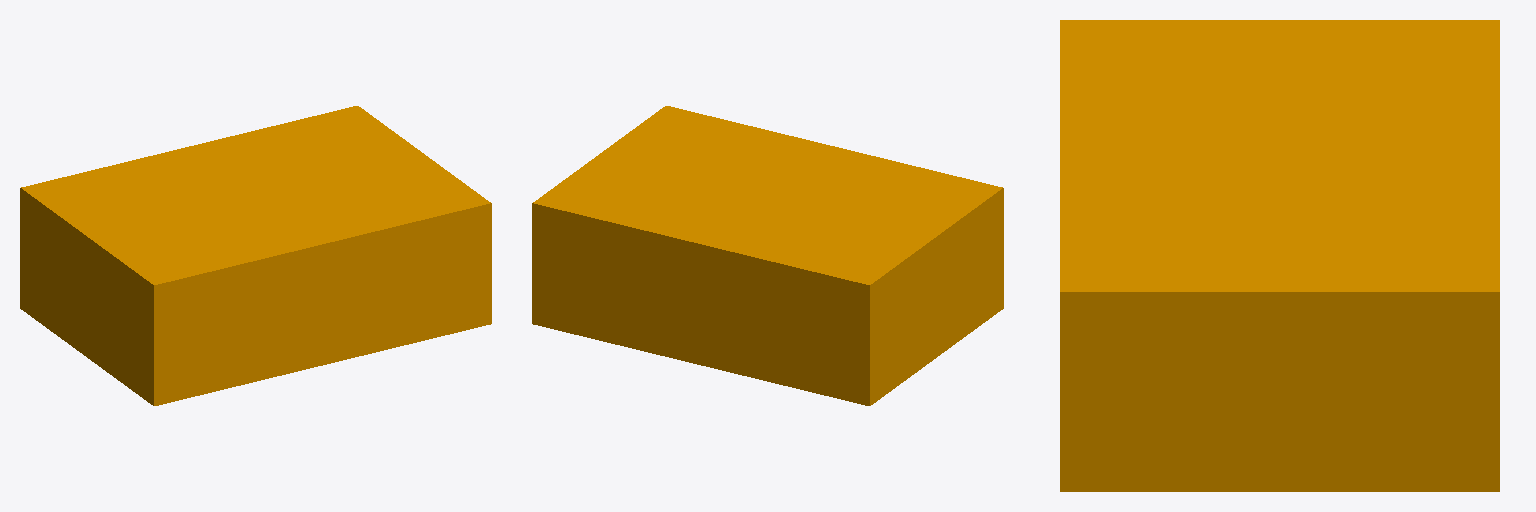
robot.urdf — 2x2:
<?xml version='1.0' encoding='UTF-8'?>
<robot name="2x2">
  <link name="base_link">
    <inertial>
      <origin xyz="0.0 0.0 0.0" rpy="0.0 0.0 0.0"/>
      <mass value="0.01"/>
      <inertia ixx="0.1" ixy="0.0" ixz="0.0" iyy="0.1" iyz="0.0" izz="0.1"/>
    </inertial>
    <visual>
      <geometry>
        <box size="0.035 0.024 0.012"/>
      </geometry>
      <material name=""/>
      <origin xyz="0.0 0.0 0.0" rpy="0.0 0.0 0.0"/>
    </visual>
    <collision>
      <geometry>
        <box size="0.035 0.024 0.012"/>
      </geometry>
      <origin xyz="0.0 0.0 0.0" rpy="0.0 0.0 0.0"/>
    </collision>
  </link>
  <material name="">
    <color rgba="0.831 0.019 0.858 1.   "/>
  </material>
  <contact>
    <lateral_friction value="1.0"/>
    <rolling_friction value="0.0"/>
    <contact_cfm value="0.0"/>
    <contact_erp value="1.0"/>
  </contact>
</robot>

--- Facts derived from the render (not from the file) ---
The picture shows the robot from 3 angles, left to right: view 1: azimuth 30°, elevation 25°; view 2: azimuth 150°, elevation 25°; view 3: azimuth 270°, elevation 25°; orthographic projection.
Robot: 2x2 — 1 links, 0 joints (none); root link base_link; default pose: every joint at zero.
Visible links, largest first — view 1: base_link; view 2: base_link; view 3: base_link.
Link boxes in pixels (x1,y1,x2,y2): base_link: (20, 106, 491, 405); base_link: (532, 106, 1003, 405); base_link: (1060, 20, 1499, 491).
Bounding box of the posed robot: 0.035 × 0.024 × 0.012 m (x, y, z).
Geometry: primitives only (box / cylinder / sphere), no mesh files.